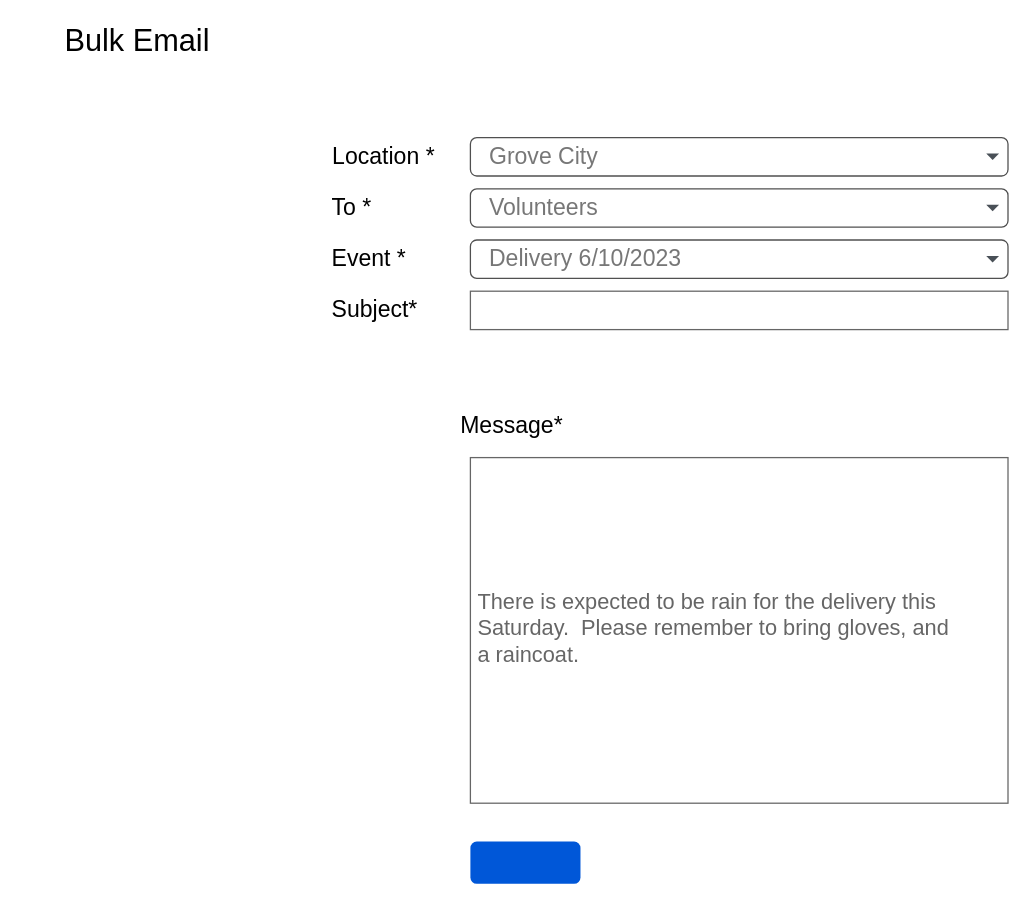
Some shapes in this 1030 by 905 pixel diagram are drawn without their labels. The centre of each missing label's shape, as x and y in pixels:
"Bring Gloves and Raincoat" goes at (738,310).
"Send" goes at (525,862).
